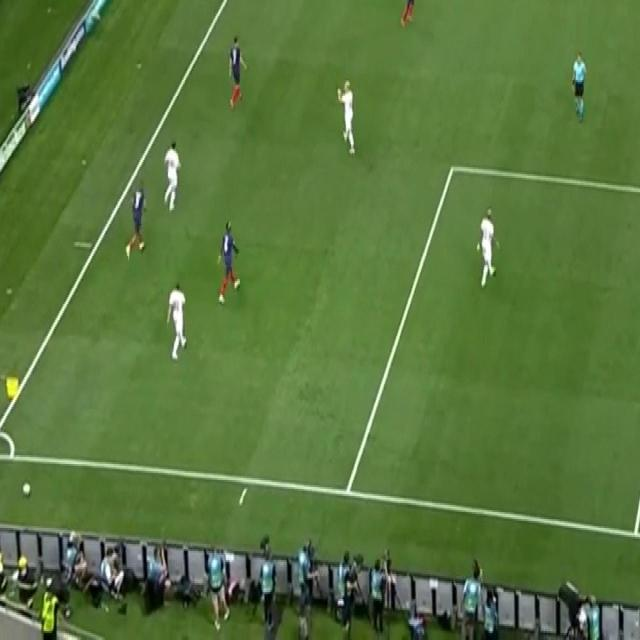ball: (22, 482, 32, 496)
player-white: (216, 220, 242, 307), (476, 204, 501, 290), (124, 177, 148, 261), (166, 279, 188, 362), (227, 34, 249, 114), (336, 78, 356, 156), (162, 139, 182, 216), (569, 50, 588, 125), (398, 0, 417, 28)
